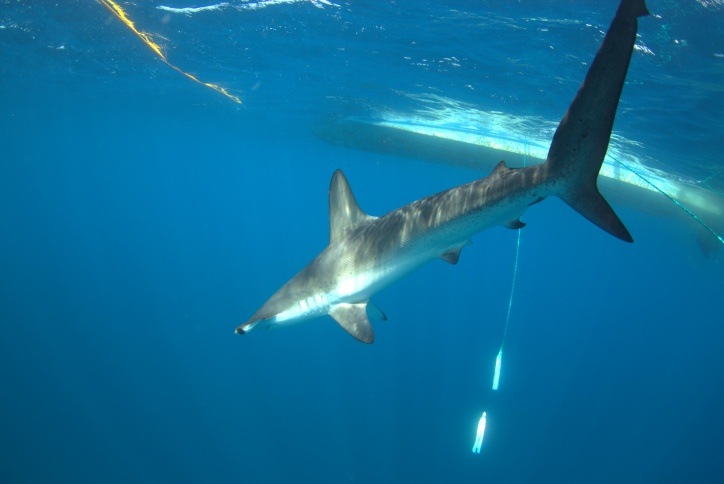Hammer: (220, 1, 670, 369)
